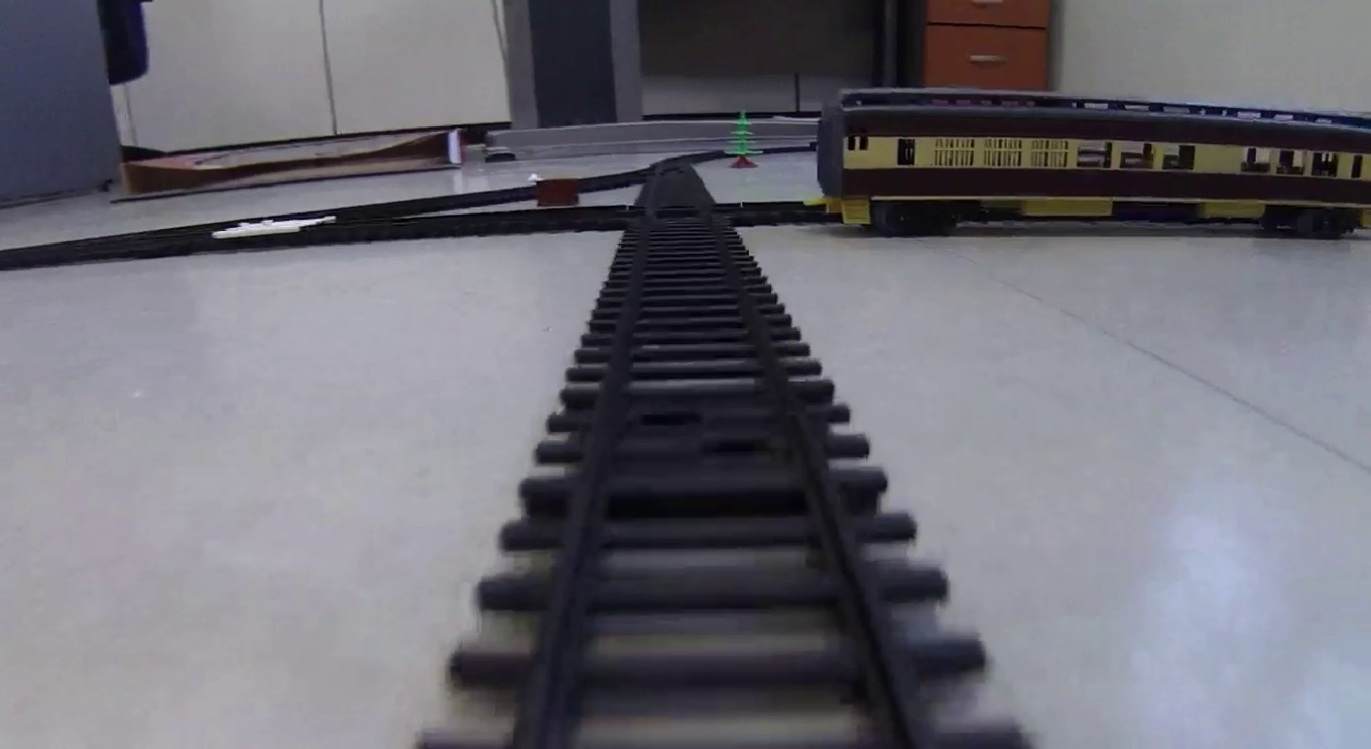tree: (726, 109, 763, 171)
